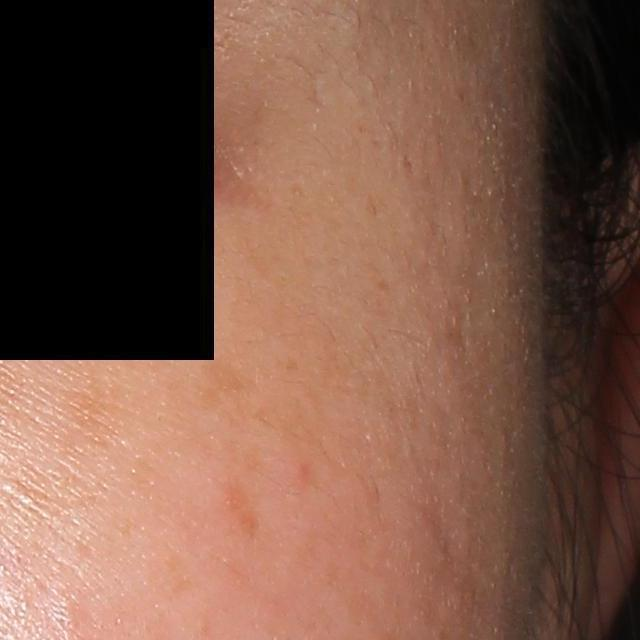melasma: (199, 361, 241, 412), (224, 485, 260, 542)
